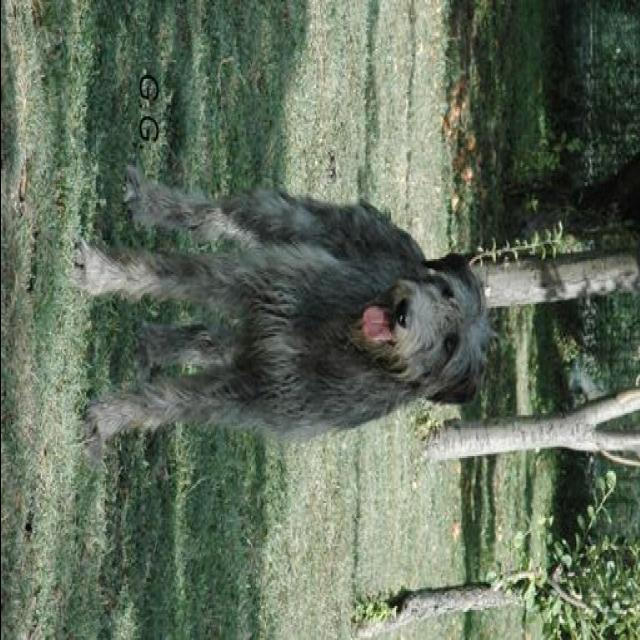irish_wolfhound: (70, 165, 500, 441)
